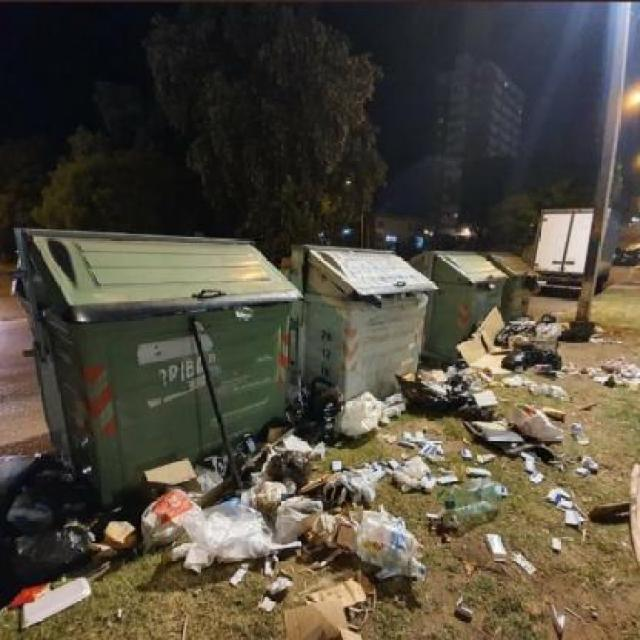garbage: (106, 451, 383, 640), (405, 360, 640, 560), (0, 451, 89, 634), (457, 299, 594, 395), (279, 383, 400, 450)
